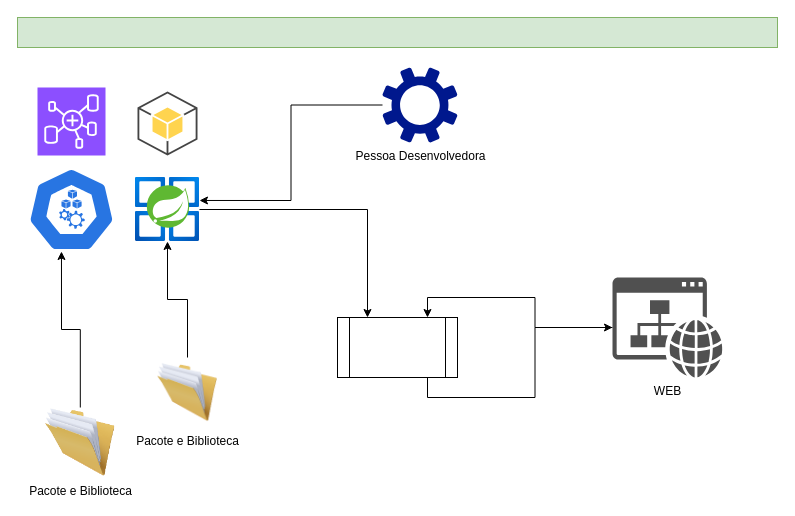
The diagram is 795 pixels wide and 516 high, and some of its shapes have lost their labels. Each missing label, with the centre of its shape:
API: (397,347)
Framework para Consumo de APIs: (397,32)
